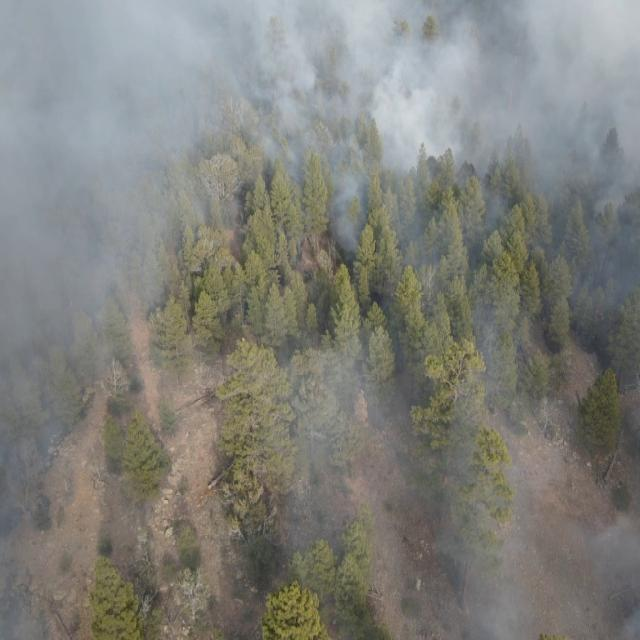smoke: (0, 0, 640, 212), (261, 322, 639, 640), (0, 212, 118, 640), (284, 211, 640, 324), (118, 214, 226, 397)
